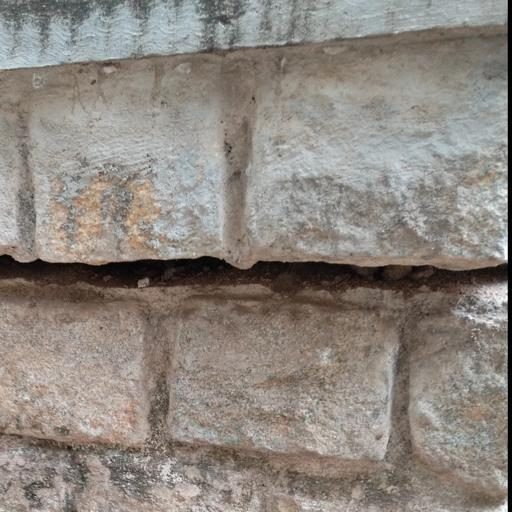major_crack: (0, 187, 512, 316)
